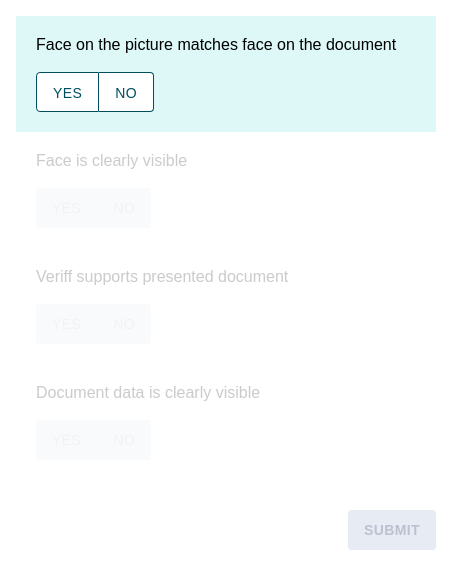
Scenario: Renders verification page › Should enable next option after selecting the previous option
What coordinates should you click on to do the following:
click the 1st button "YES"
I would click on:
 (68, 92)
Its box is [36,72,99,112].
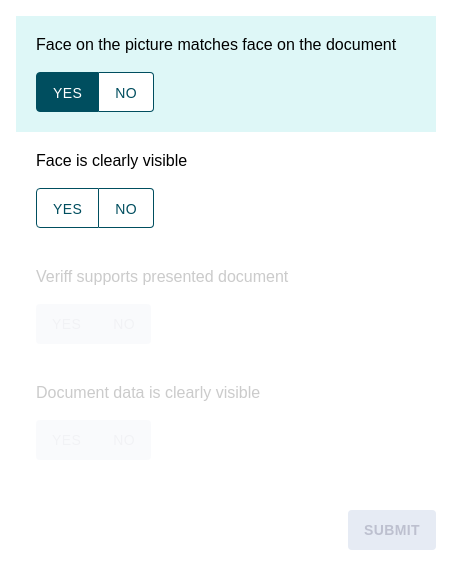
Expected: the option with test id "option-available" is shown, [16,132,436,248]
What coordinates should you click on to do the following:
click the button "YES" below "Face is clearly visible"
I would click on:
 (68, 208)
Its box is [36,188,99,228].
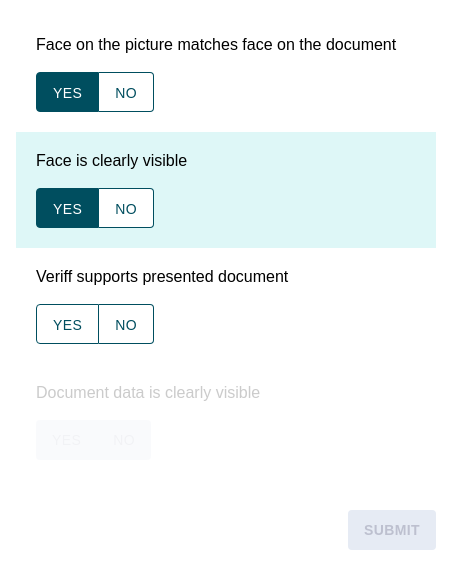
Expected: the number of options with test id "option-available" is 2, [16,16,436,132]; [16,248,436,364]
